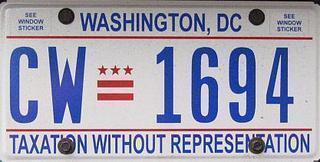placa de veiculo: (4, 4, 310, 161)
